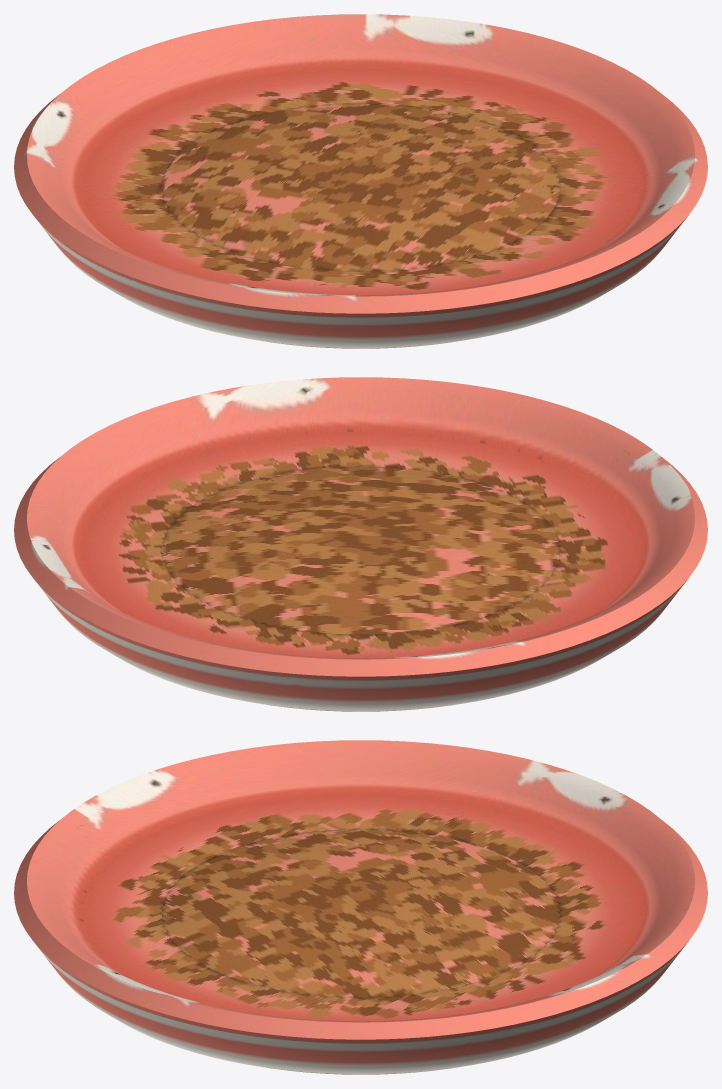
Rendered from food_bowl.glb.
The picture shows the model from 3 angles, top to bottom: view 1: azimuth 30°, elevation 25°; view 2: azimuth 150°, elevation 25°; view 3: azimuth 270°, elevation 25°; orthographic projection.
Visible parts, largest first — view 1: food_bowl; view 2: food_bowl; view 3: food_bowl.
Boxes of the visible parts, bbox=[...] form: food_bowl: bbox=[14, 14, 707, 348]; food_bowl: bbox=[14, 377, 707, 711]; food_bowl: bbox=[14, 740, 707, 1074].
Bounding box in the file's own units: 0.324 × 0.039 × 0.324.
1 material, 1 textured.
